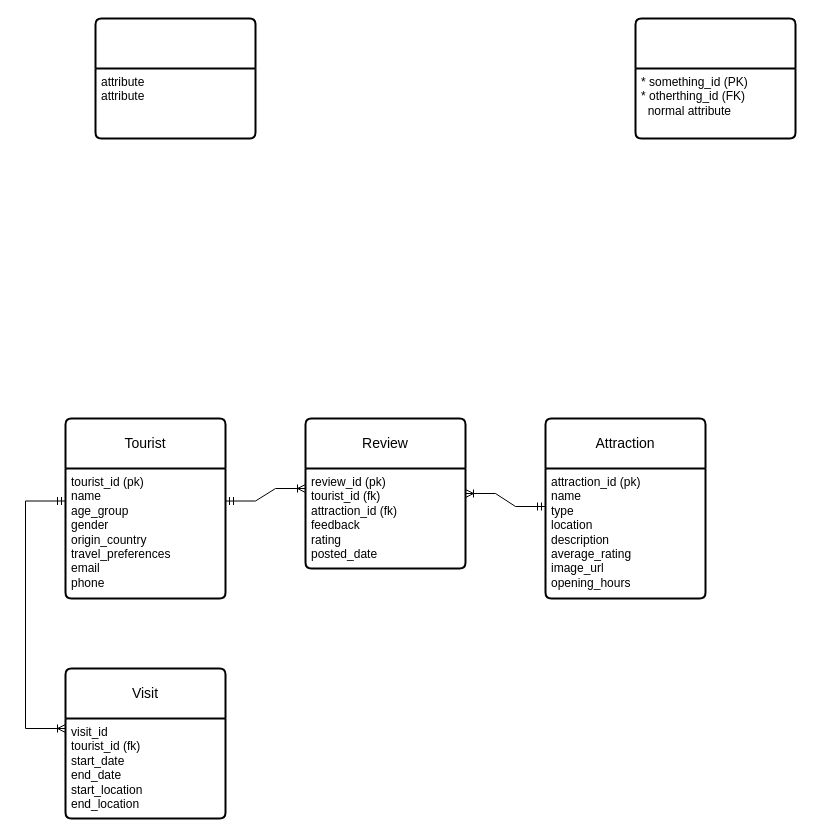
The diagram is 814 pixels wide and 836 high, and some of its shapes have lost their labels. Here are the shapes that lost their labels. From the top down, the box of each, then its label:
(94, 17, 256, 139): Phase 1
(634, 17, 796, 139): Phase 2
